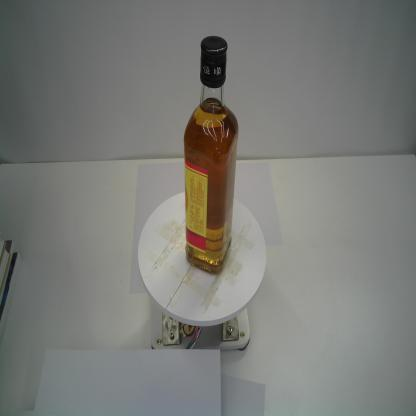Seasoner: (183, 35, 240, 277)
